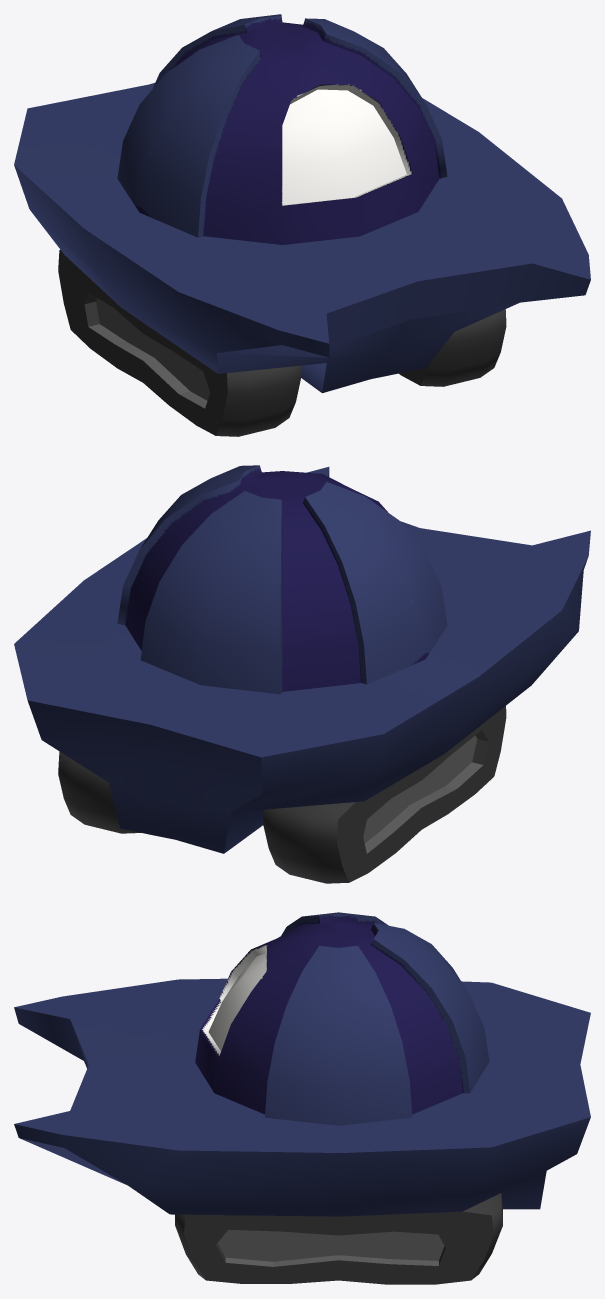
The model's file is Robot01_Tank.fbx.
3 renders of one model, top to bottom at view 1: azimuth 30°, elevation 25°; view 2: azimuth 150°, elevation 25°; view 3: azimuth 270°, elevation 25°, orthographic. The views are drawn at different scales.
Parts seen in each view (by area): view 1: Body, L_Tread1, L_Tread; view 2: Body, L_Tread1, L_Tread; view 3: Body, L_Tread.
Boxes of the visible parts, x1,y1,x2,y2 form: Body: [14, 14, 590, 393]; L_Tread1: [58, 249, 301, 436]; L_Tread: [399, 309, 506, 386]; Body: [14, 465, 590, 853]; L_Tread1: [263, 706, 506, 883]; L_Tread: [58, 751, 140, 833]; Body: [14, 912, 590, 1216]; L_Tread: [175, 1193, 502, 1284].
Bounding box in the file's own units: 24.29 × 18.87 × 33.62.
